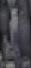cylinder: (1, 1, 31, 68)
